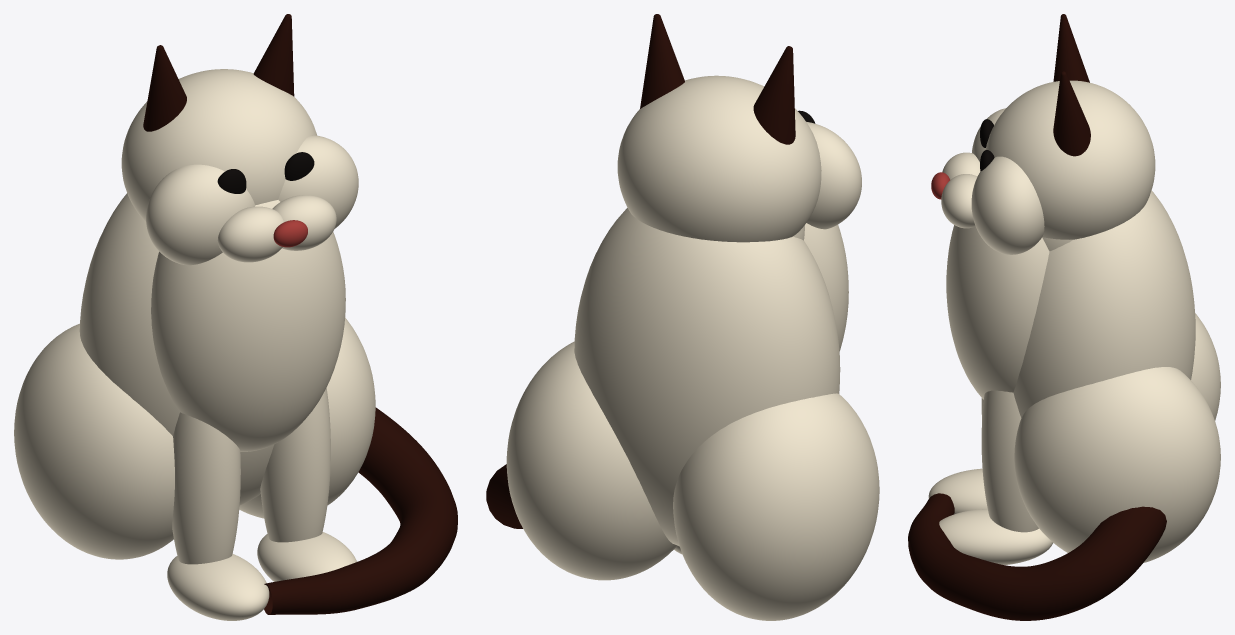
File: sitting-turkish-van-cat.obj
The picture shows the model from 3 angles, left to right: view 1: azimuth 30°, elevation 25°; view 2: azimuth 150°, elevation 25°; view 3: azimuth 270°, elevation 25°; orthographic projection. The views are drawn at different scales.
Visible parts, largest first — view 1: Chest, Haunch_L, Head, Brown_Tail, Body, Foreleg_L, Foreleg_R, Cheek_L, Haunch_R, Paw_L, Cheek_R, Paw_R (+6 smaller); view 2: Body, Haunch_L, Head, Haunch_R, Cheek_L, Chest, Ear_L, Ear_R, Brown_Tail; view 3: Haunch_R, Body, Head, Brown_Tail, Chest, Cheek_R, Foreleg_R, Paw_R, Ear_R, Haunch_L, Paw_L, Muzzle_R (+2 smaller).
Part boxes in pixels (x1,y1,x2,y2): Chest: [151, 200, 345, 451]; Haunch_L: [14, 323, 174, 559]; Head: [121, 69, 316, 221]; Brown_Tail: [264, 407, 457, 614]; Body: [79, 193, 274, 505]; Foreleg_L: [172, 412, 240, 564]; Foreleg_R: [260, 388, 330, 542]; Cheek_L: [146, 164, 254, 265]; Haunch_R: [239, 317, 375, 518]; Paw_L: [167, 554, 269, 620]; Cheek_R: [278, 135, 358, 228]; Paw_R: [257, 532, 356, 581]; Body: [574, 208, 840, 546]; Haunch_L: [673, 393, 879, 620]; Head: [617, 75, 821, 242]; Haunch_R: [506, 341, 677, 580]; Cheek_L: [806, 122, 861, 229]; Chest: [804, 223, 848, 351]; Ear_L: [753, 46, 795, 144]; Ear_R: [640, 14, 684, 108]; Brown_Tail: [486, 464, 522, 528]; Haunch_R: [1014, 367, 1220, 562]; Body: [1013, 190, 1195, 417]; Head: [985, 80, 1155, 239]; Brown_Tail: [908, 493, 1166, 620]; Chest: [946, 225, 1049, 399]; Cheek_R: [971, 156, 1044, 254]; Foreleg_R: [981, 390, 1038, 532]; Paw_R: [939, 509, 1052, 564]; Ear_R: [1053, 71, 1090, 156]; Haunch_L: [1191, 313, 1220, 420]; Paw_L: [928, 468, 987, 514]; Muzzle_R: [941, 174, 977, 228].
Size of the model in its own units: 0.1592 by 0.2178 by 0.1242.
